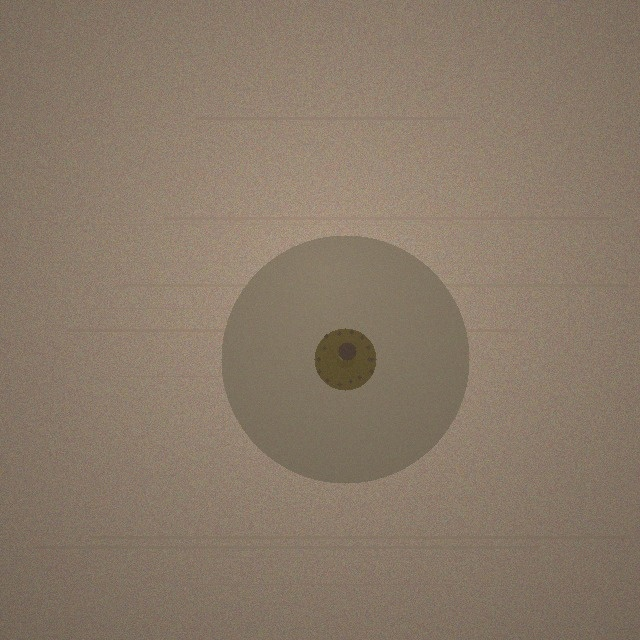cold_weld: (221, 235, 469, 483)
